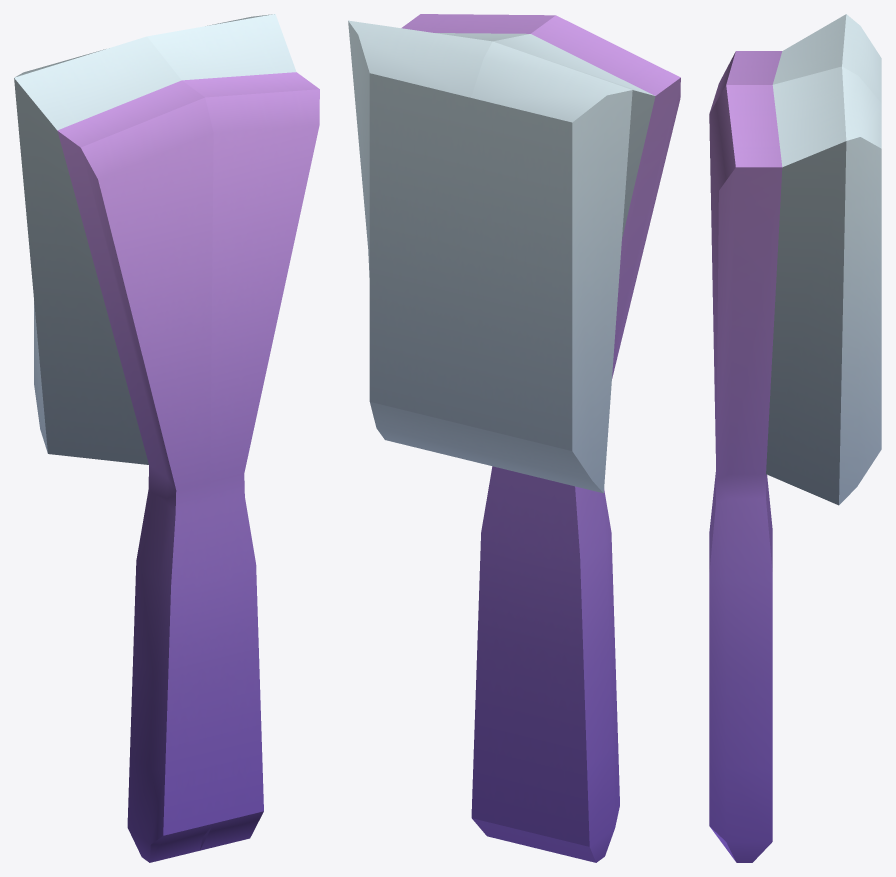
Rendered from brush.fbx.
3 views of the same model, side by side, from view 1: azimuth 30°, elevation 25°; view 2: azimuth 150°, elevation 25°; view 3: azimuth 270°, elevation 25° (orthographic). The views are drawn at different scales.
Parts seen in each view (by area): view 1: brush; view 2: brush; view 3: brush.
Part boxes in pixels (bbox=[...]): brush: bbox=[14, 14, 319, 862]; brush: bbox=[348, 14, 680, 862]; brush: bbox=[709, 14, 881, 862].
Bounding box in the file's own units: 74.2 × 210 × 42.54.
